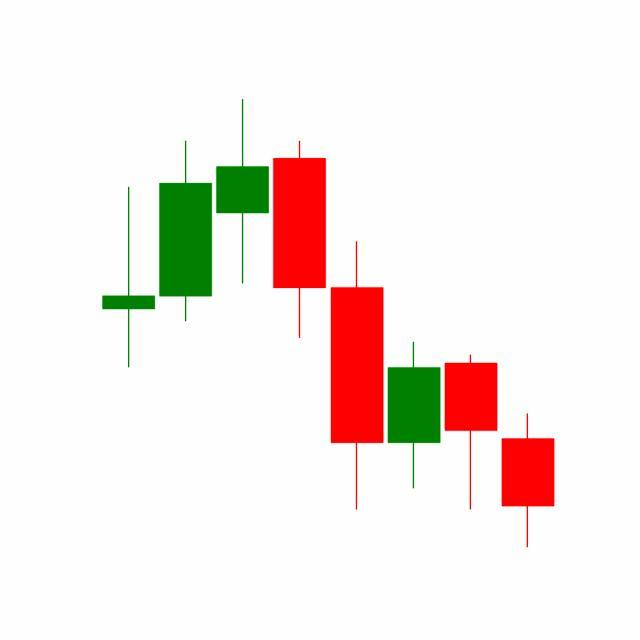Hikkake Pattern: (214, 100, 501, 516)
